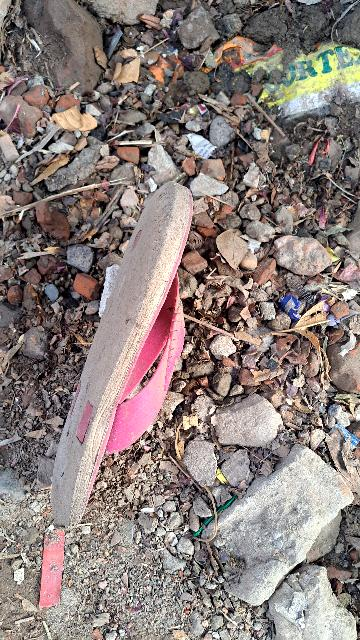sandal: (38, 185, 239, 551)
